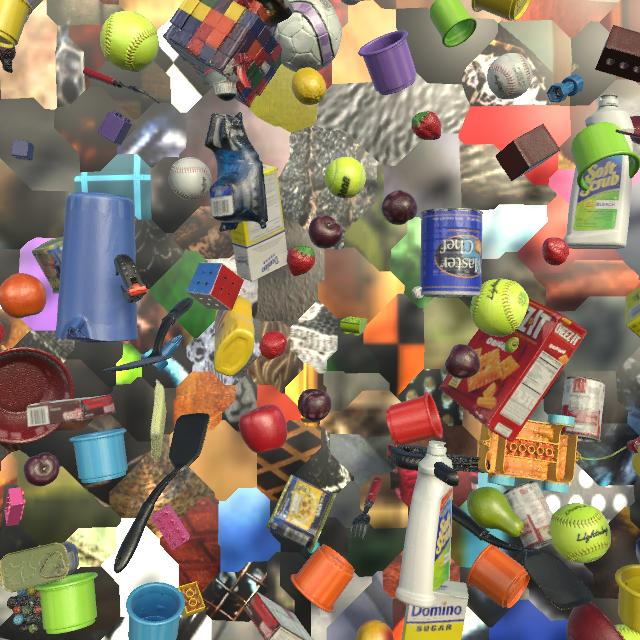ycb_002_master_chef_can: (420, 208, 483, 298)
ycb_003_cracker_box: (439, 298, 588, 442)
ycb_004_sugar_box: (230, 164, 288, 282), (401, 580, 469, 640), (625, 287, 640, 337)
ycb_005_tomato_soup_can: (503, 481, 553, 549), (560, 376, 605, 443), (0, 638, 9, 640)
ycb_006_mustard_bottle: (214, 296, 255, 376)
ycb_008_pudding_box: (243, 592, 313, 640), (26, 394, 116, 427)
ycb_010_potted_meat_can: (266, 475, 336, 552), (0, 542, 79, 592), (32, 237, 63, 294)
ycb_012_strawberry: (411, 111, 441, 140), (287, 245, 315, 276), (259, 331, 287, 359), (542, 238, 569, 266), (0, 323, 6, 343)
ycb_013_apple: (239, 404, 287, 453)
ycb_014_lemon: (291, 67, 326, 105)
ycb_015_peach: (356, 619, 394, 640)
ycb_016_pear: (467, 487, 524, 537), (505, 337, 519, 353)
ycb_017_orange: (0, 273, 47, 319)
ycb_018_plum: (381, 190, 417, 225), (445, 344, 480, 379), (24, 452, 60, 486), (309, 215, 343, 249), (298, 389, 332, 422)
